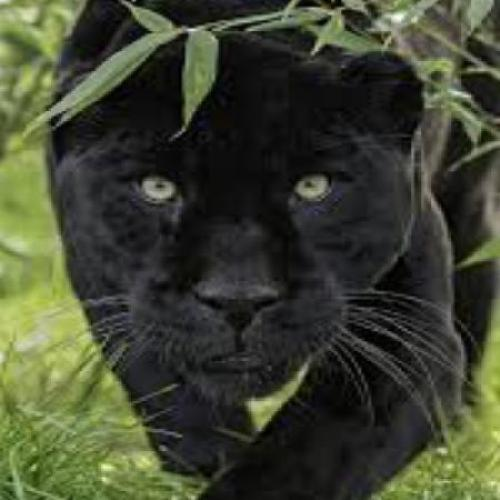panther-endangered: (39, 0, 500, 500)
